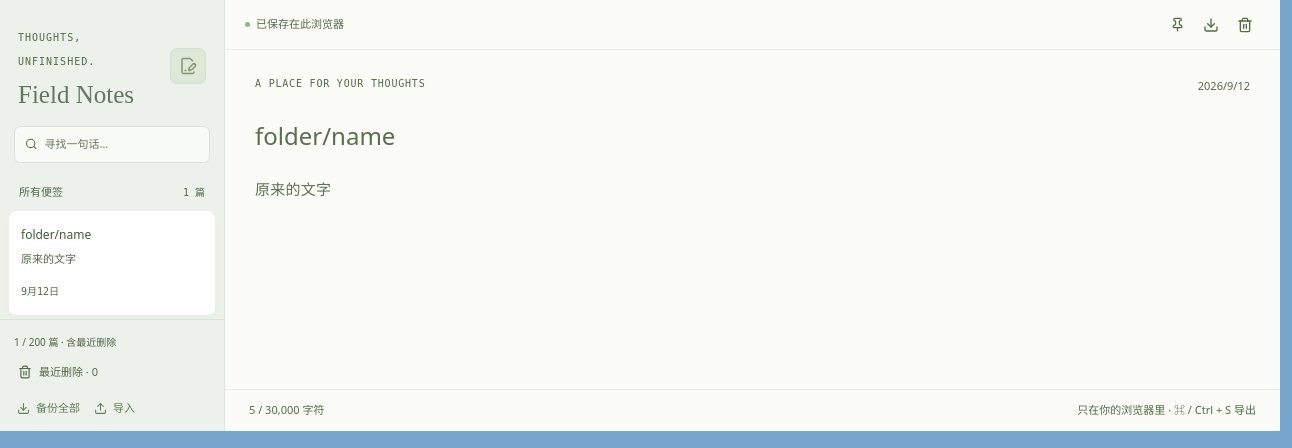
Scenario: Field Notes download boundaries › clicks a connected download anchor with a safe filename and removes it afterward
Click the button named "导出笔记": click(1211, 24) [1196,10,1226,40]
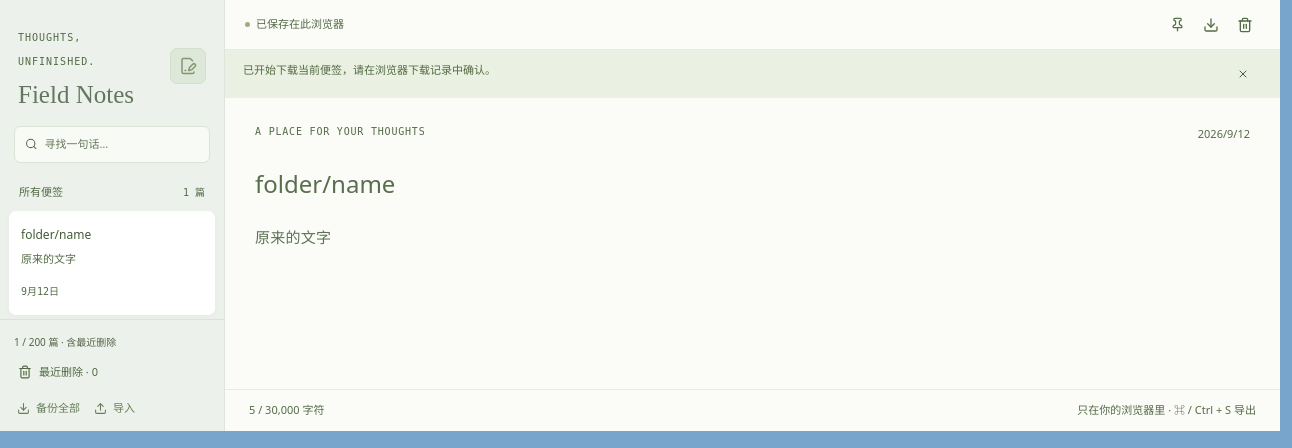
Expected: the text "已开始下载当前便签，请在浏览器下载记录中确认。" is shown, [243,62,496,77]
